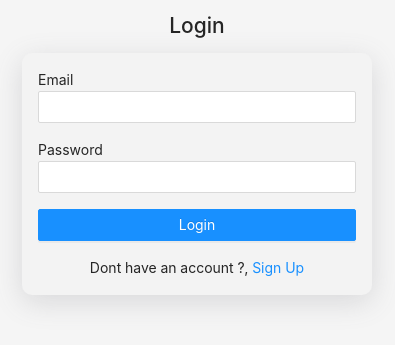
Scenario: Login › Should be able to validate invalid email
Type "test@test" into the field labelled "Email" at (197, 106), box [38,90,356,122]
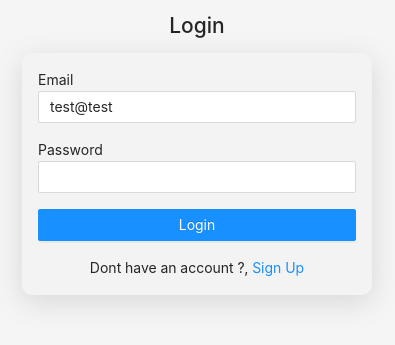
Type "testtest" into the password field labelled "Password" at (197, 176), box [38,160,356,192]
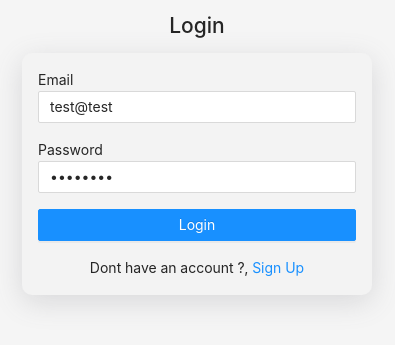
Click the button at (197, 224), box [38,208,356,240]
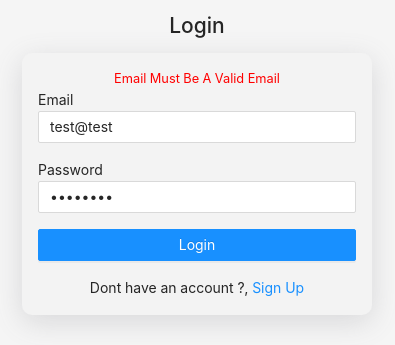
Check: the text titled "error" is shown, box [114,70,280,86]
